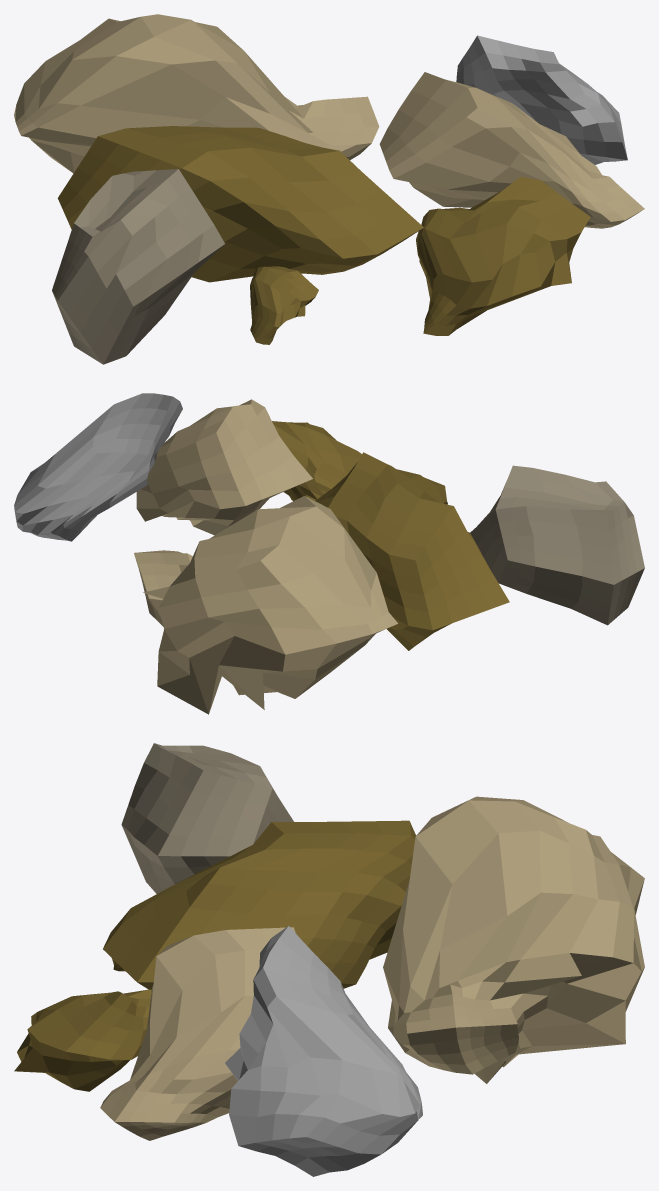
Rendered from LowPolyRocks.fbx.
The picture shows the model from 3 angles, top to bottom: view 1: azimuth 30°, elevation 25°; view 2: azimuth 150°, elevation 25°; view 3: azimuth 270°, elevation 25°; orthographic projection. The views are drawn at different scales.
Visible parts, largest first — view 1: Rock1, Rock6, Rock5, Rock3, Rock4, Rock7, Rock2; view 2: Rock6, Rock5, Rock1, Rock3, Rock7, Rock4; view 3: Rock6, Rock7, Rock1, Rock3, Rock5, Rock4.
Part boxes in pixels (bbox=[...]): Rock1: bbox=[57, 126, 423, 282]; Rock6: bbox=[14, 14, 379, 173]; Rock5: bbox=[52, 169, 224, 364]; Rock3: bbox=[379, 72, 644, 228]; Rock4: bbox=[416, 176, 590, 335]; Rock7: bbox=[456, 35, 627, 164]; Rock2: bbox=[250, 266, 318, 344]; Rock6: bbox=[134, 496, 397, 714]; Rock5: bbox=[470, 465, 644, 625]; Rock1: bbox=[315, 452, 509, 650]; Rock3: bbox=[136, 399, 312, 535]; Rock7: bbox=[14, 393, 182, 541]; Rock4: bbox=[272, 421, 361, 501]; Rock6: bbox=[383, 796, 644, 1083]; Rock7: bbox=[225, 926, 422, 1176]; Rock1: bbox=[103, 820, 415, 989]; Rock3: bbox=[100, 927, 296, 1140]; Rock5: bbox=[121, 743, 293, 893]; Rock4: bbox=[14, 989, 151, 1091].
Bounding box in the file's own units: 8.59 × 3 × 6.91.
